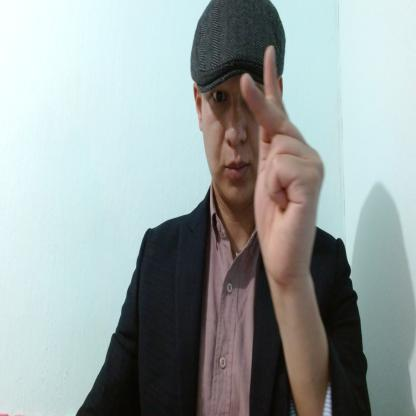P: (239, 41, 326, 284)
